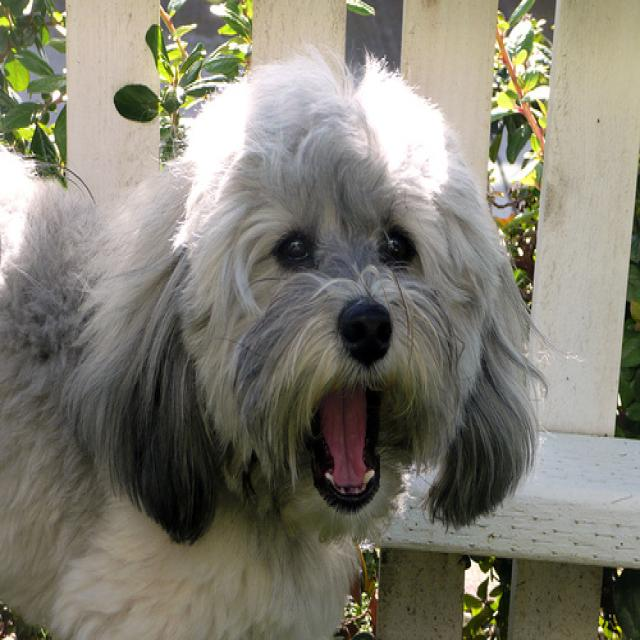dog-havanese: (1, 48, 545, 637)
